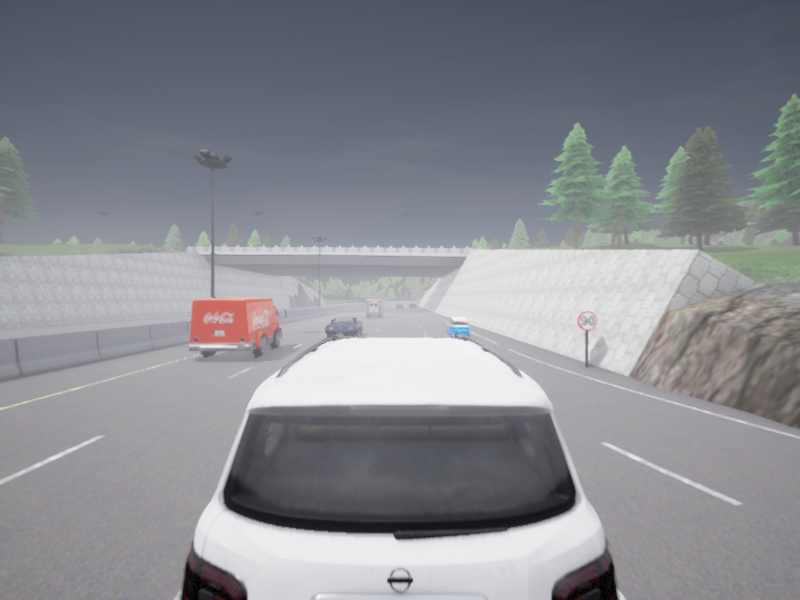vehicle: (178, 336, 619, 599), (188, 298, 285, 356), (325, 317, 362, 337), (445, 317, 469, 340), (365, 299, 384, 316), (396, 303, 403, 308), (409, 303, 415, 307)
